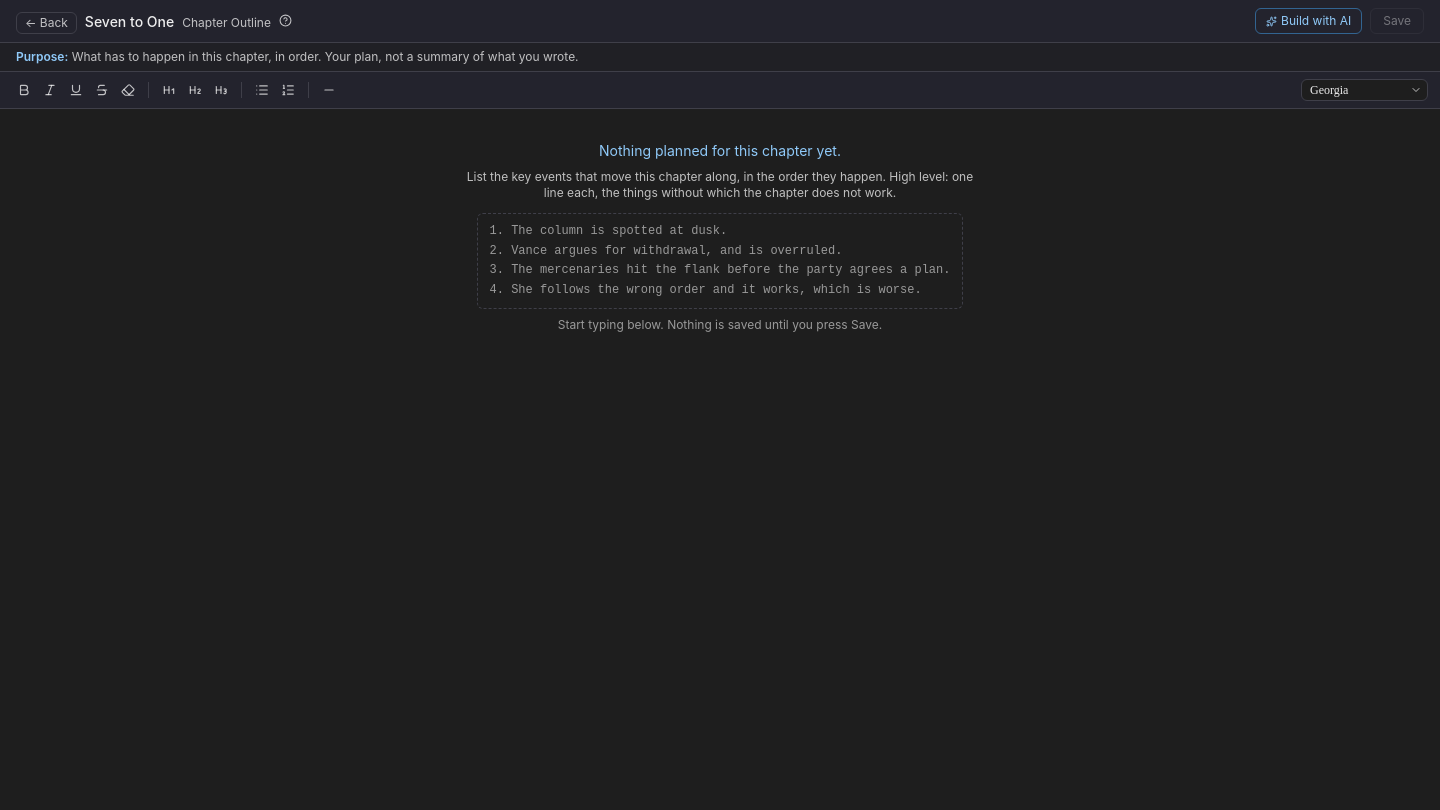
Test: build with AI › Insert still saves nothing
Expected: the text "Seven to One" is shown, [85, 12, 174, 32]
Click the button "Build with AI" at (1309, 21), box [1255, 8, 1362, 34]
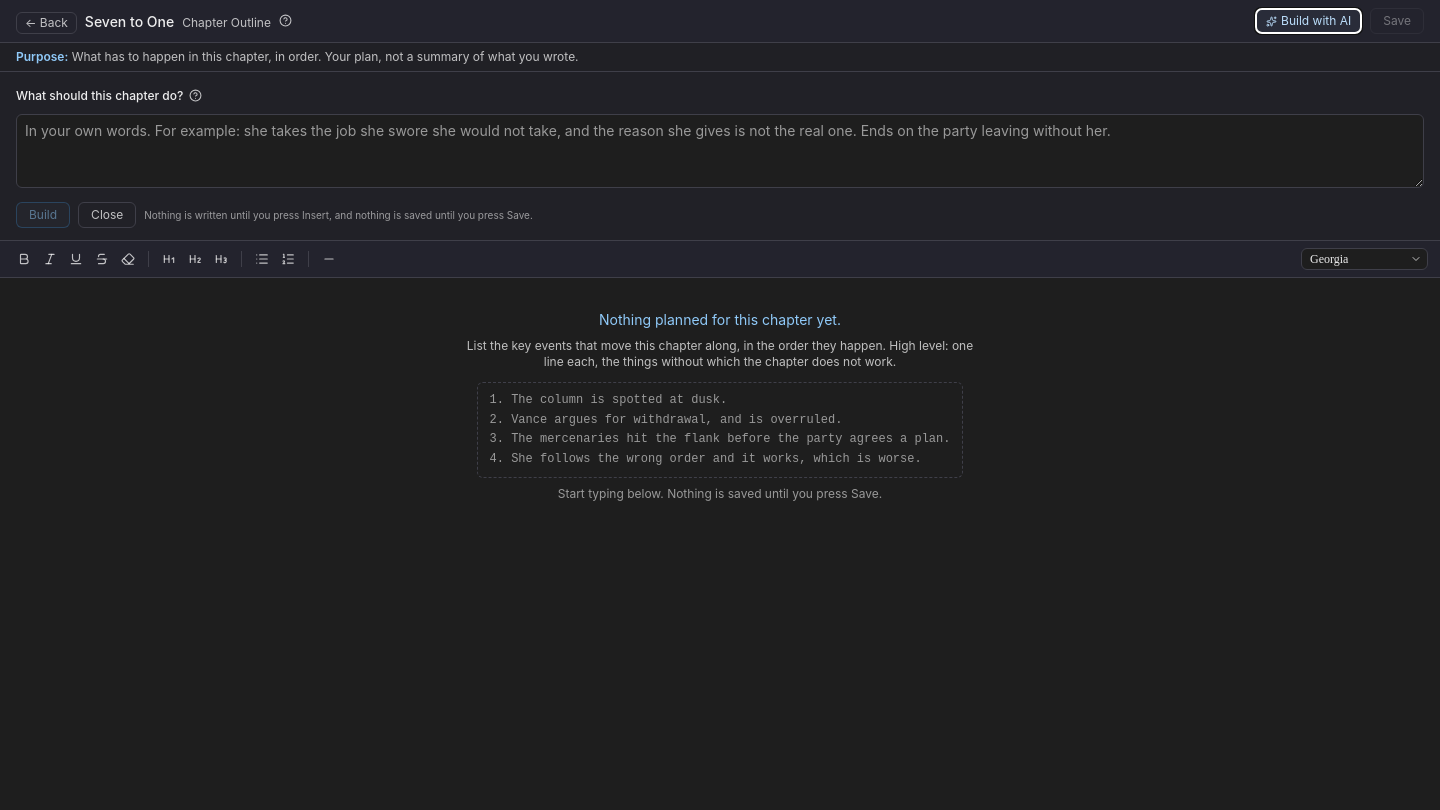
Type "x" into the text box with placeholder "In your own words" at (720, 151), box [16, 114, 1424, 188]
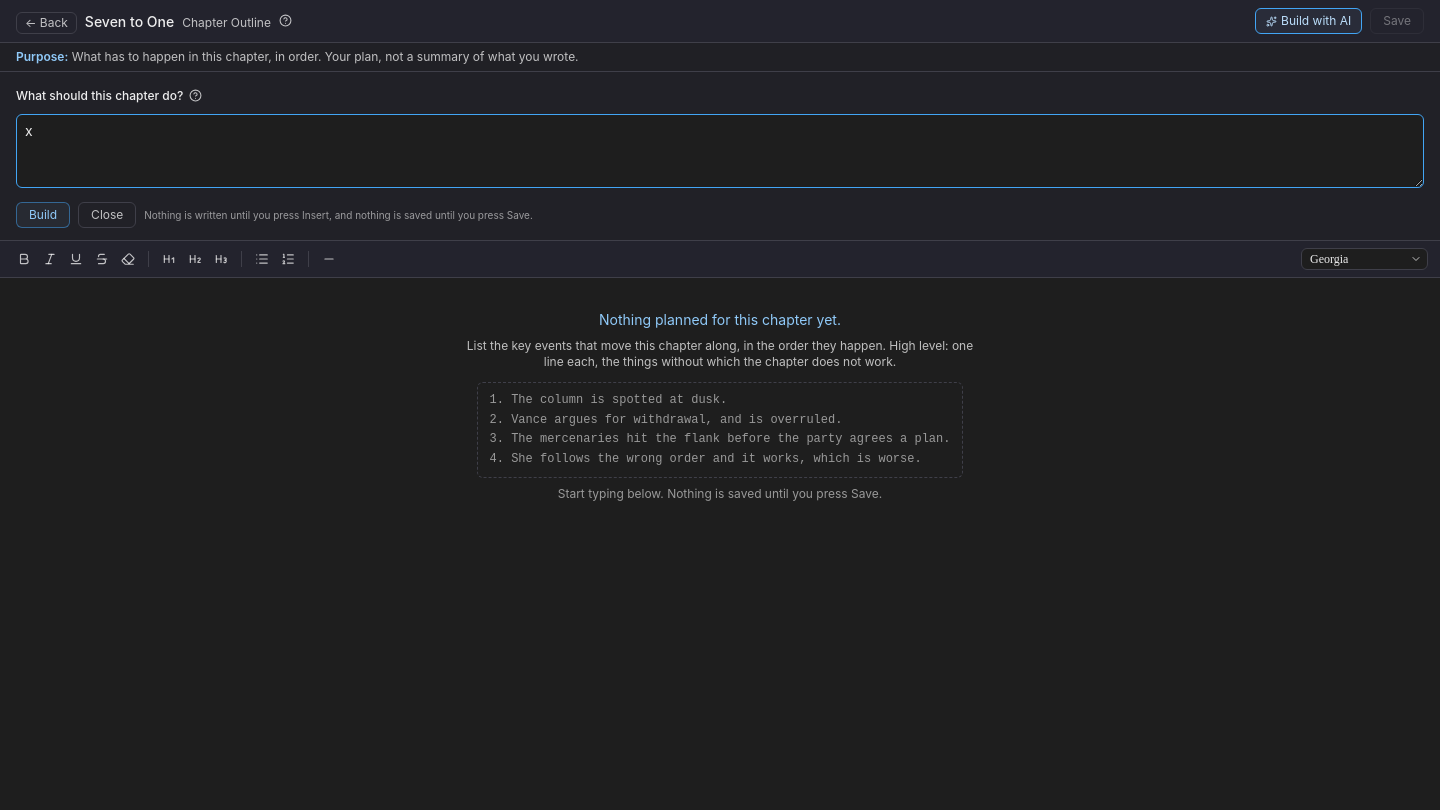
Click the button "Build" at (43, 215), box [16, 202, 70, 228]
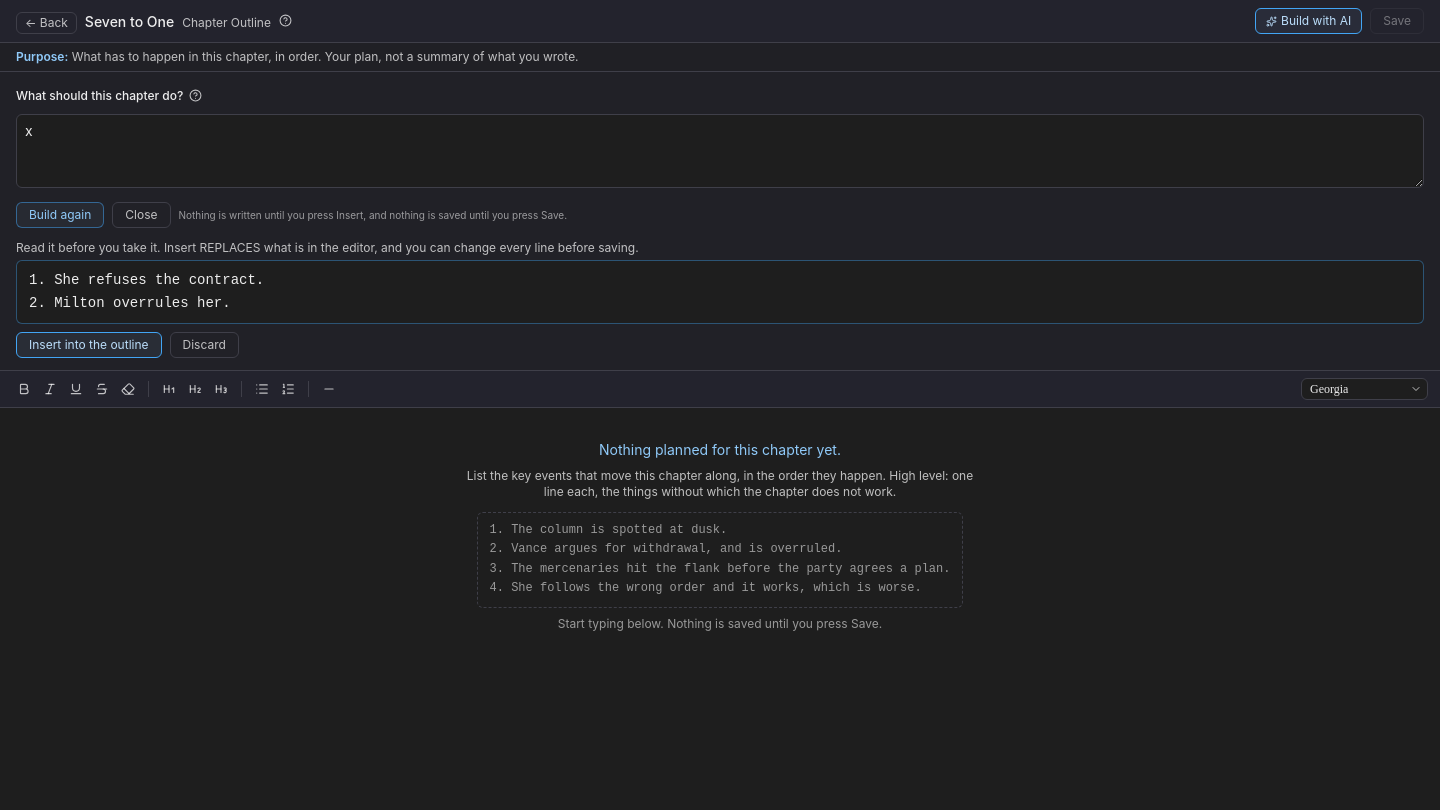
Expected: the element with test id "outline-proposal" is shown, [16, 240, 1424, 358]
Click the button with test id "outline-insert" at (89, 344), box [16, 332, 162, 358]
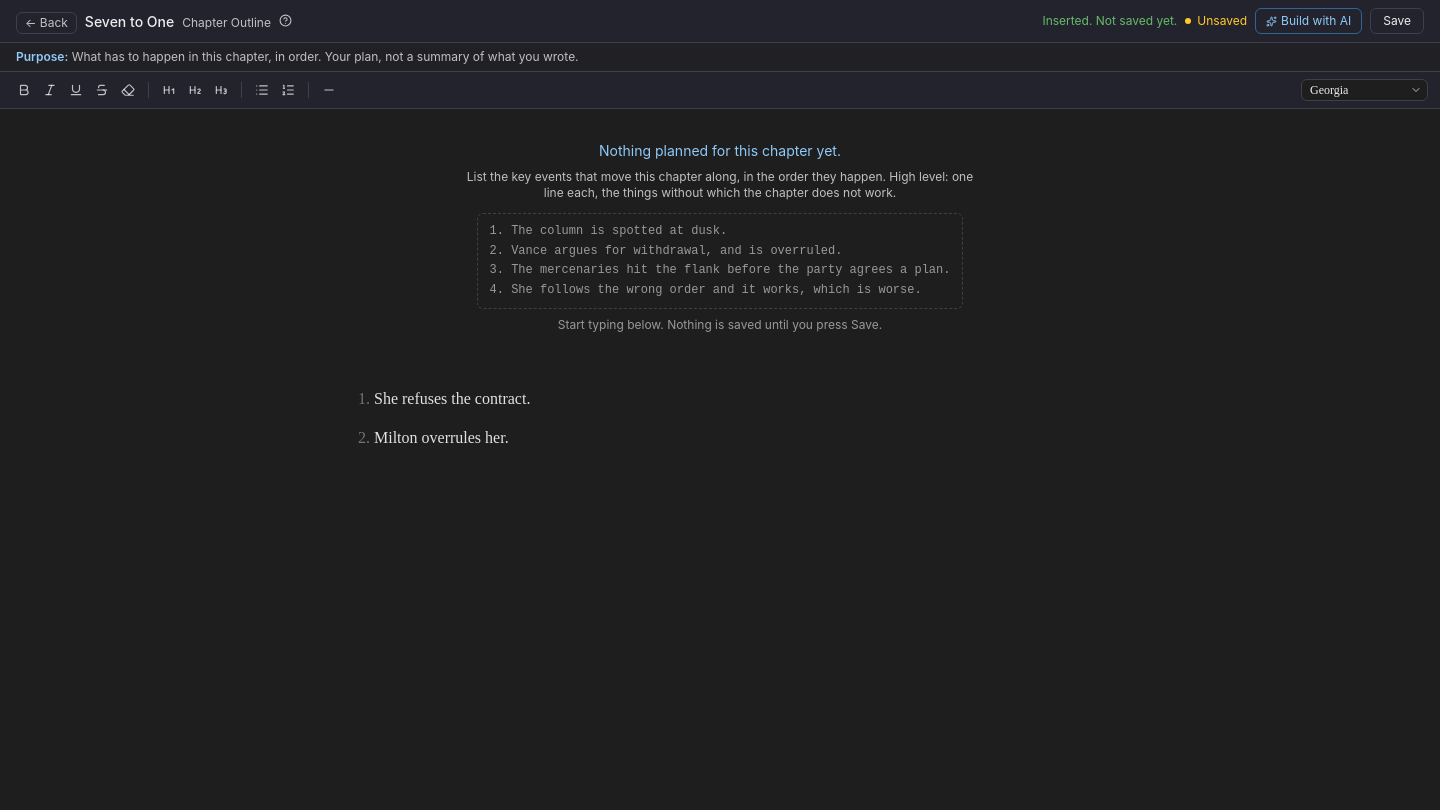
Expected: the text "Inserted. Not saved yet." is shown, [1042, 13, 1177, 29]
